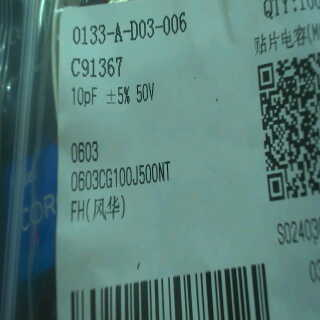10pF: (67, 81, 112, 117)
